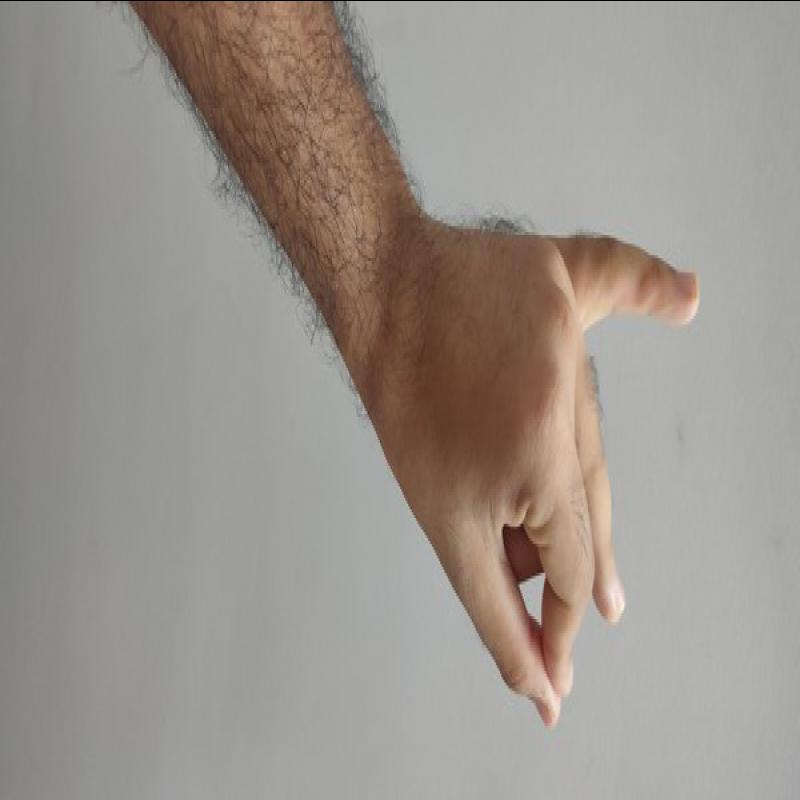Katakam: (344, 200, 738, 793)
